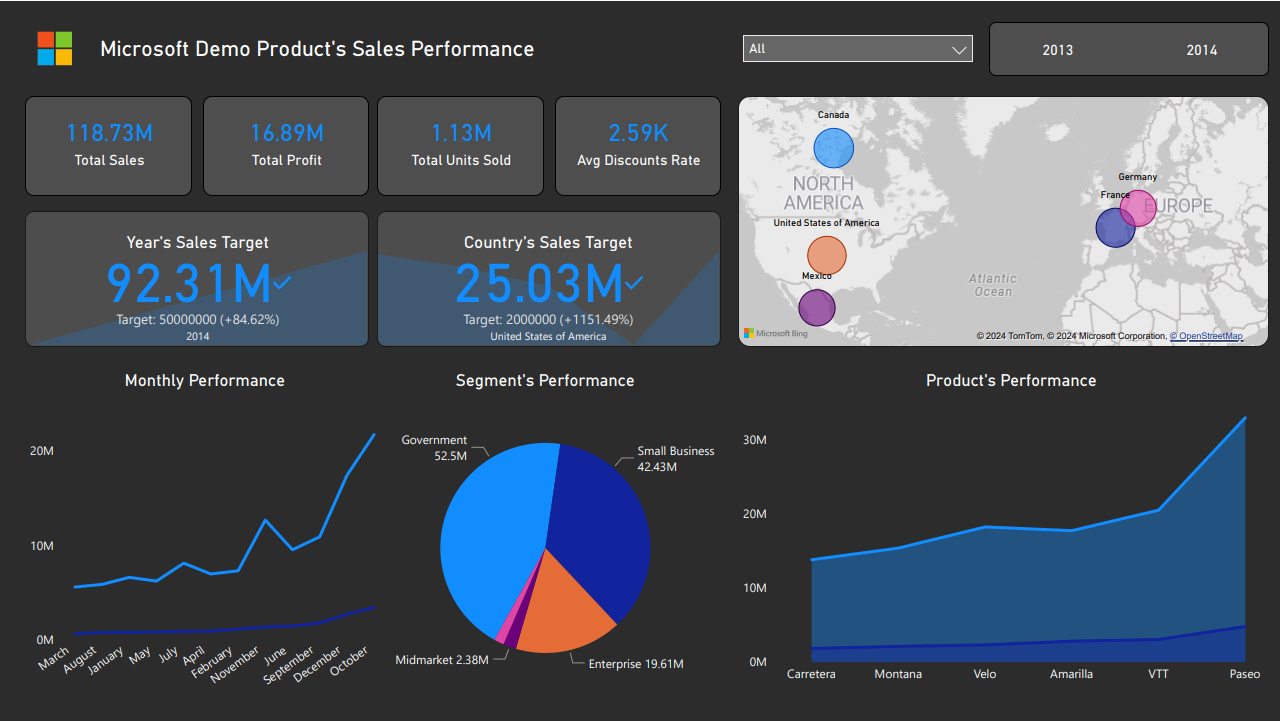

This screenshot's page, from the dashboard's own definition file:
{"tool":"powerbi","page":{"name":"Page 1","canvas":[1280,720],"ordinal":0},"visuals":[{"type":"card","fields":{"Values":["Sum(Financial Sample. Sales)"]},"box":[25.5,95.5,166.4,99.1],"z":0},{"type":"card","fields":{"Values":["Sum(Financial Sample.Profit)"]},"box":[202.7,95.5,166.4,99.1],"z":1000},{"type":"card","fields":{"Values":["Sum(Financial Sample.Units Sold)"]},"box":[377.3,95.5,166.4,99.1],"z":2000},{"type":"kpi","title":"Year''s Sales Target","fields":{"Indicator":["Sum(Financial Sample. Sales)"],"Goal":["Financial Sample.Target"],"TrendLine":["Financial Sample.Year"]},"box":[25.5,210,343.6,136.4],"z":3000},{"type":"advancedSlicerVisual","fields":{"Values":["Financial Sample.Year"]},"box":[989.1,20.9,280,54.5],"z":4000},{"type":"card","fields":{"Values":["Median(Financial Sample.Discounts)"]},"box":[554.5,95.5,166.4,99.1],"z":5000},{"type":"slicer","fields":{"Values":["Financial Sample.Country"]},"box":[738.2,20.9,240,54.5],"z":6000},{"type":"kpi","title":"Country''s Sales Target","fields":{"Indicator":["Sum(Financial Sample. Sales)"],"TrendLine":["Financial Sample.Country"],"Goal":["Financial Sample.TargetCountry"]},"box":[377.3,210,343.6,136.4],"z":7000},{"type":"lineChart","title":"Monthly Performance","fields":{"Y":["Sum(Financial Sample. Sales)","Sum(Financial Sample.Profit)"],"Category":["Financial Sample.Month Name"]},"box":[25.5,360,359.1,340.9],"z":8000},{"type":"pieChart","title":"Segment''s Performance","fields":{"Y":["Sum(Financial Sample. Sales)"],"Category":["Financial Sample.Segment"]},"box":[369.1,360,352.7,340.9],"z":9000},{"type":"map","fields":{"Category":["Financial Sample.Country"],"Series":["Financial Sample.Country"],"Size":["Sum(Financial Sample.Units Sold)"]},"box":[738.2,95.5,530.9,250.9],"z":10000},{"type":"lineChart","title":"Product''s Performance","fields":{"Category":["Financial Sample.Product"],"Y":["Sum(Financial Sample. Sales)","Sum(Financial Sample.Profit)"]},"box":[738.2,360,541.8,340.9],"z":11000},{"type":"image","box":[0,0,109.1,95.5],"z":11001},{"type":"textbox","box":[94.5,30,454.5,35.5],"z":11002}]}

Visuals, with their boxes in screenshot pixels (x1, y1, x2, y2), scaled from the page's 1280x720 canvas onto the 1281x722 screenshot:
card - Sum(Financial Sample. Sales): box=[26, 96, 192, 195]
card - Sum(Financial Sample.Profit): box=[203, 96, 369, 195]
card - Sum(Financial Sample.Units Sold): box=[378, 96, 544, 195]
"Year''s Sales Target" kpi: box=[26, 211, 369, 347]
advancedSlicerVisual - Financial Sample.Year: box=[990, 21, 1270, 76]
card - Median(Financial Sample.Discounts): box=[555, 96, 721, 195]
slicer - Financial Sample.Country: box=[739, 21, 979, 76]
"Country''s Sales Target" kpi: box=[378, 211, 721, 347]
"Monthly Performance" lineChart: box=[26, 361, 385, 703]
"Segment''s Performance" pieChart: box=[369, 361, 722, 703]
map - Financial Sample.Country x Financial Sample.Country: box=[739, 96, 1270, 347]
"Product''s Performance" lineChart: box=[739, 361, 1280, 703]
image: box=[0, 0, 109, 96]
textbox: box=[95, 30, 549, 66]
